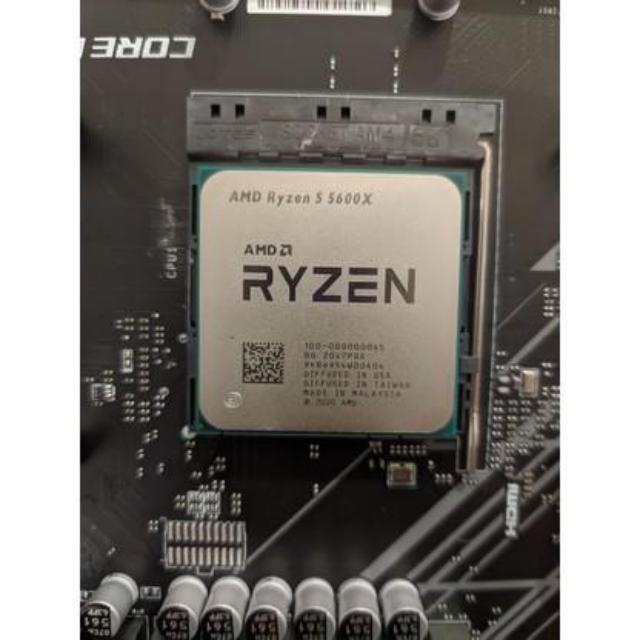CPU: (198, 170, 462, 436)
